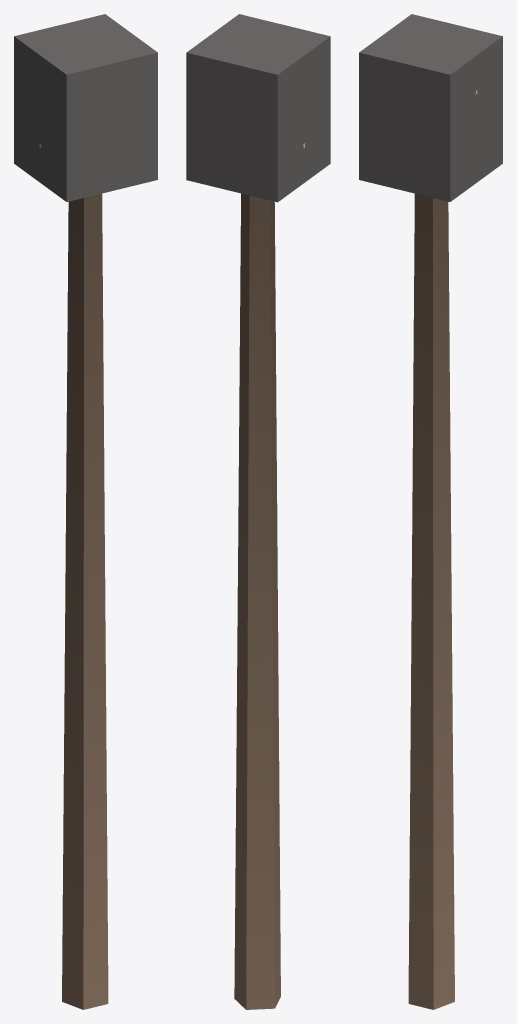
File: lamp_post.glb
The picture shows the model from 3 angles, left to right: view 1: azimuth 30°, elevation 25°; view 2: azimuth 150°, elevation 25°; view 3: azimuth 330°, elevation 25°; orthographic projection.
Parts seen in each view (by area): view 1: lamp_post; view 2: lamp_post; view 3: lamp_post.
Boxes of the visible parts, left/top/right/bottom form: lamp_post: left=14, top=14, right=157, bottom=1009; lamp_post: left=186, top=14, right=330, bottom=1009; lamp_post: left=359, top=14, right=502, bottom=1009.
Size of the model in its own units: 0.3041 by 3 by 0.3.
